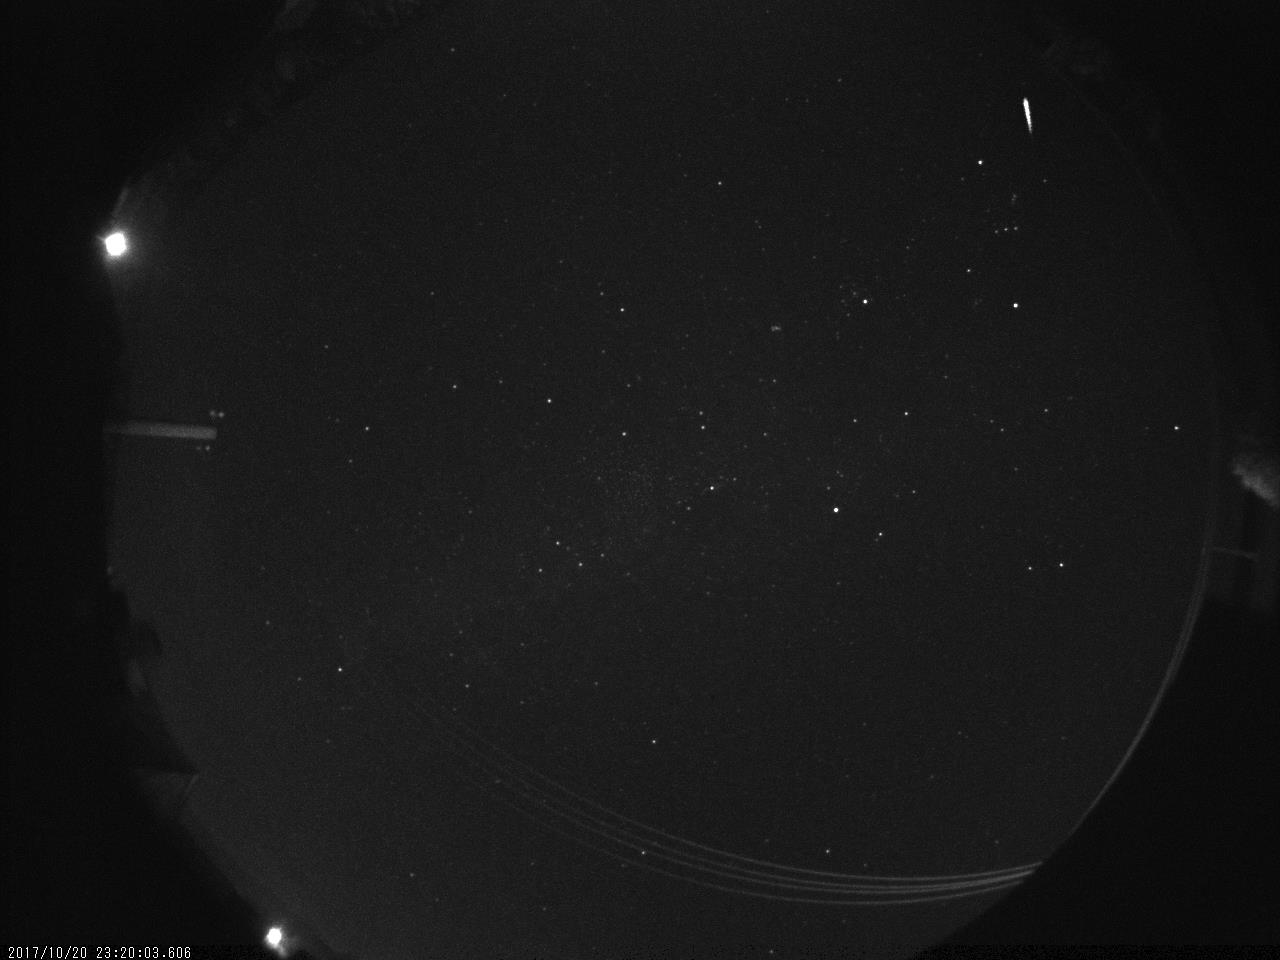meteor: (988, 81, 1067, 160)
